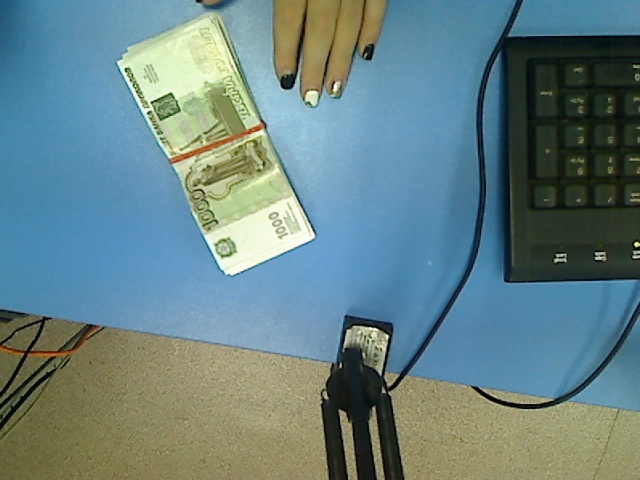banknotes: (117, 11, 318, 280)
